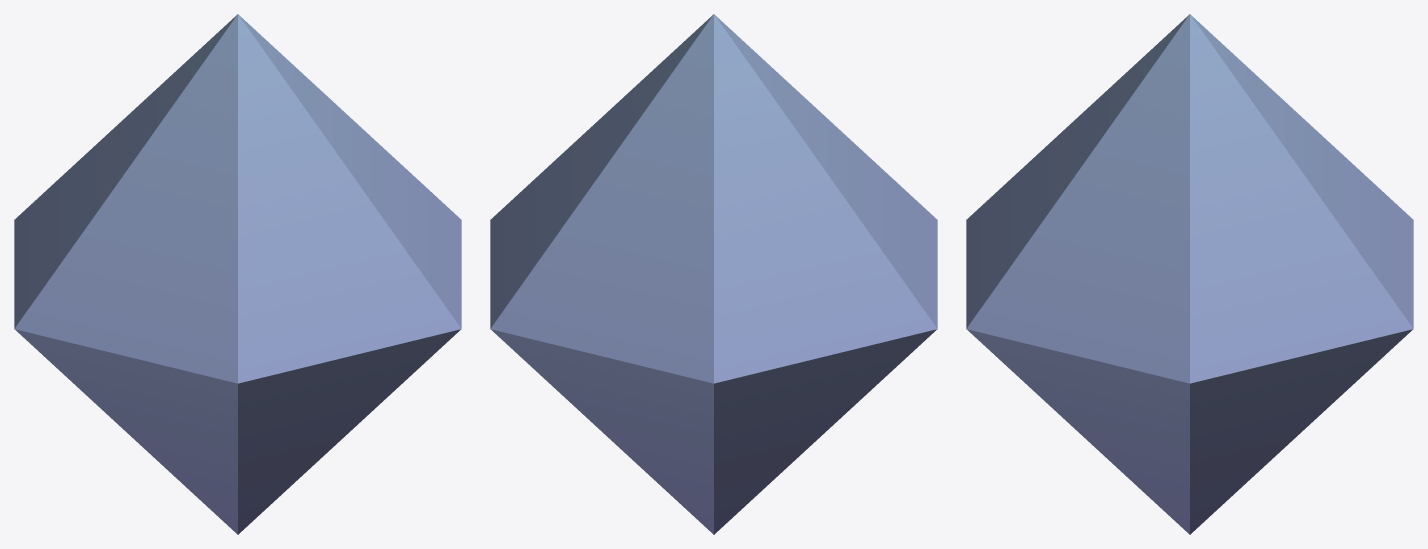
Rendered from gem.glb.
3 renders of one model, left to right at view 1: azimuth 30°, elevation 25°; view 2: azimuth 150°, elevation 25°; view 3: azimuth 270°, elevation 25°, orthographic.
Parts seen in each view (by area): view 1: gem; view 2: gem; view 3: gem.
Part boxes in pixels (x1,y1,x2,y2): gem: [14, 14, 461, 534]; gem: [490, 14, 937, 534]; gem: [966, 14, 1413, 534].
Size of the model in its own units: 0.3329 by 0.3705 by 0.2883.
